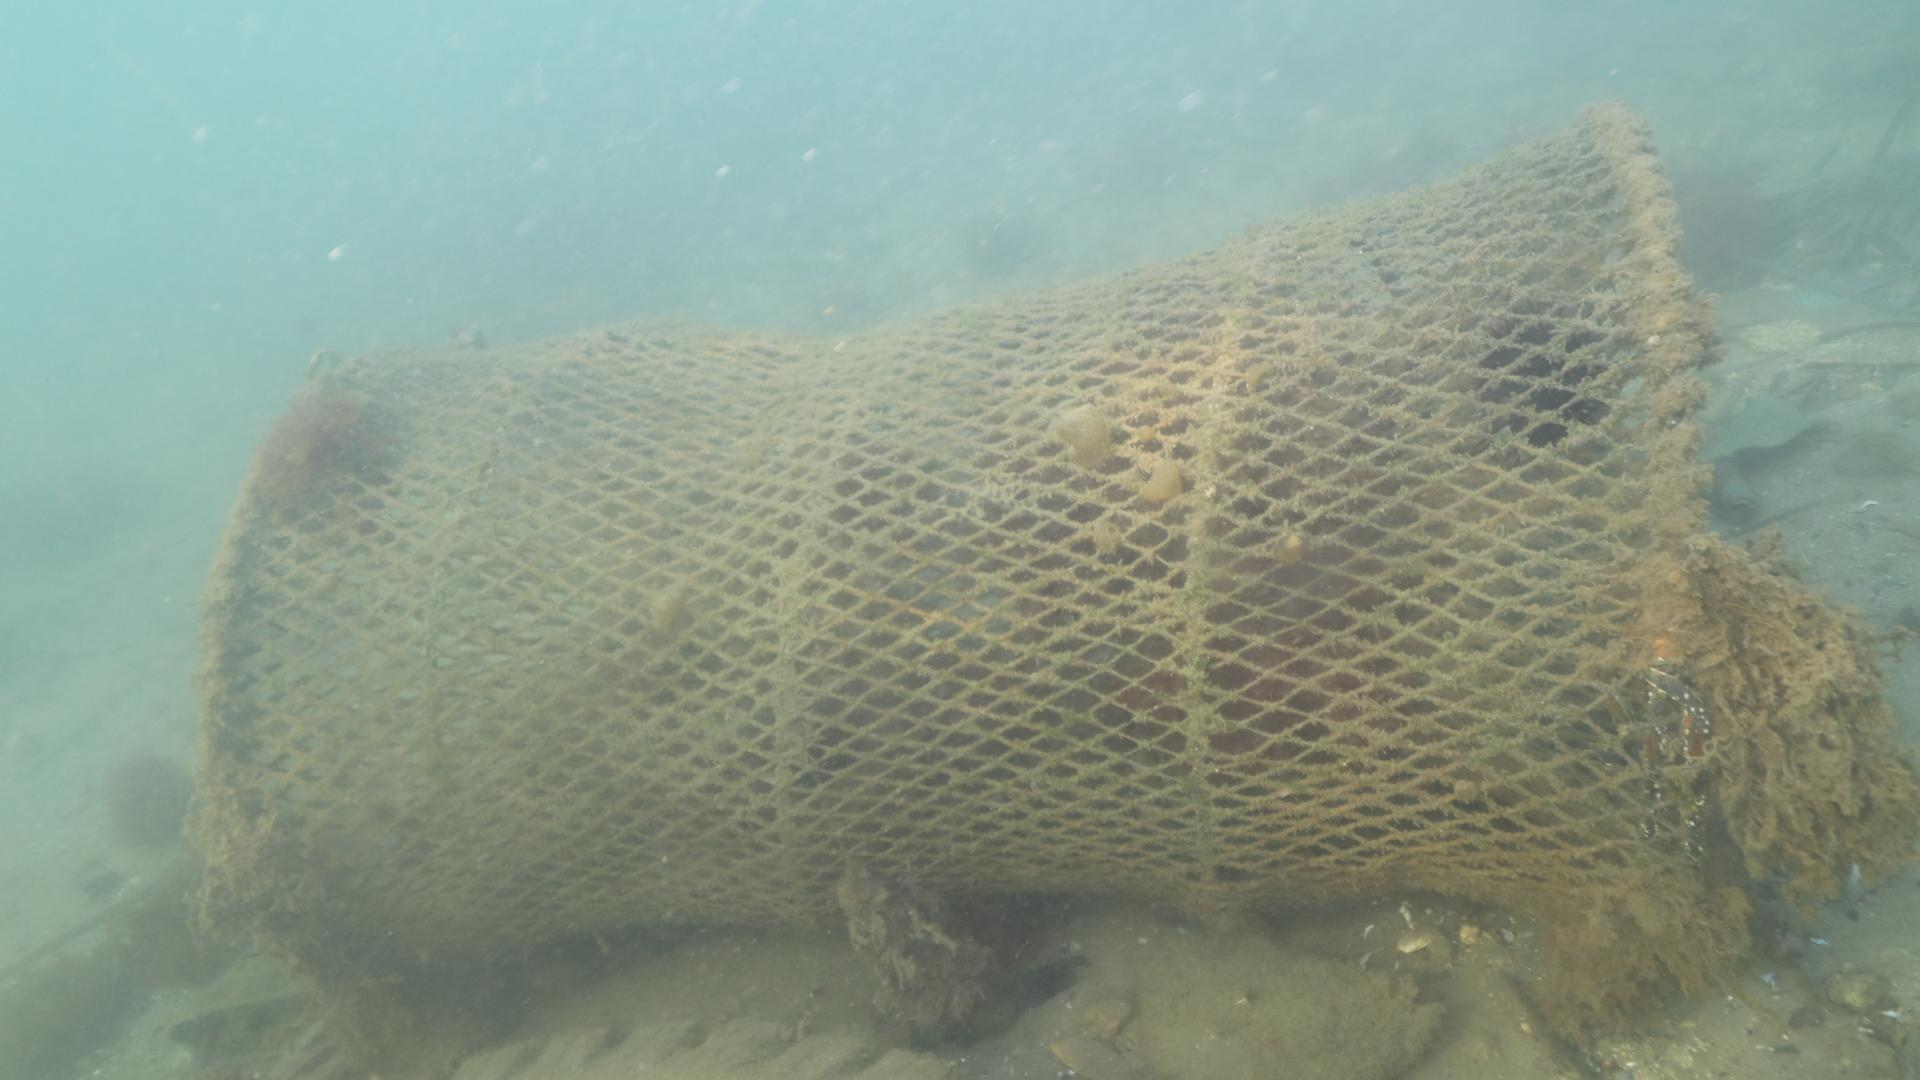spring fish trap: (194, 90, 1706, 1025)
